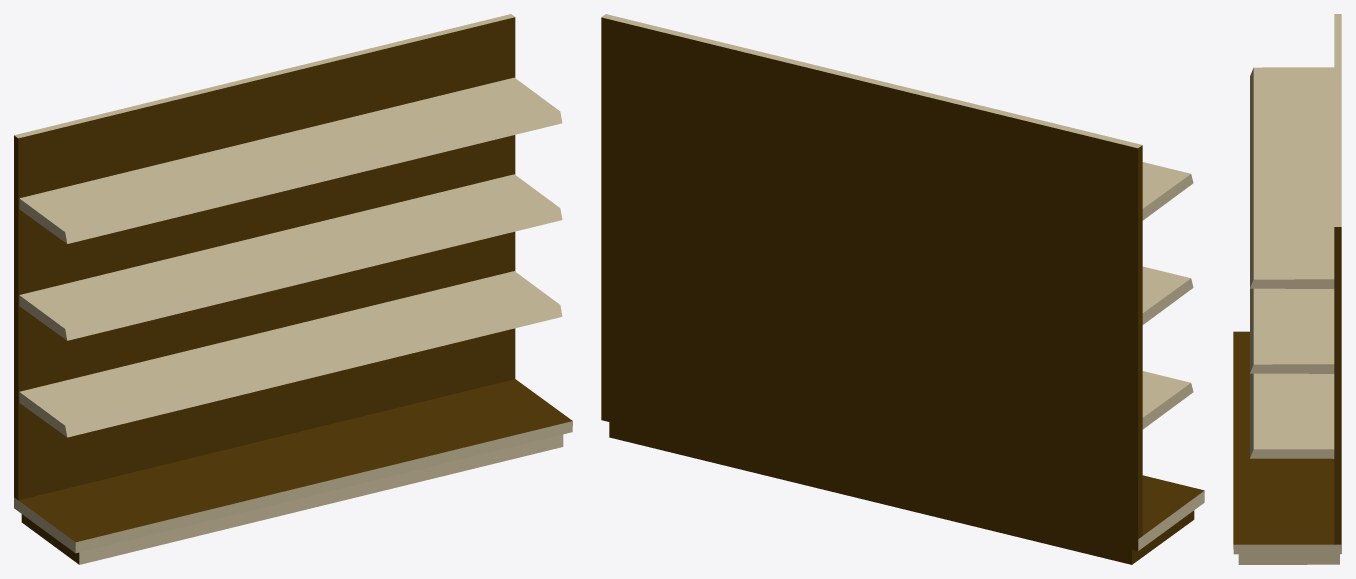
The model's file is shelve.fbx.
3 renders of one model, left to right at view 1: azimuth 30°, elevation 25°; view 2: azimuth 150°, elevation 25°; view 3: azimuth 270°, elevation 25°, orthographic. The views are drawn at different scales.
Visible parts, largest first — view 1: bottom.003; view 2: bottom.003; view 3: bottom.003.
Part boxes in pixels (x1,y1,x2,y2): bottom.003: (14,14,572,564); bottom.003: (601,14,1204,564); bottom.003: (1233,14,1341,564).
Bounding box in the file's own units: 2689 × 2007 × 578.
